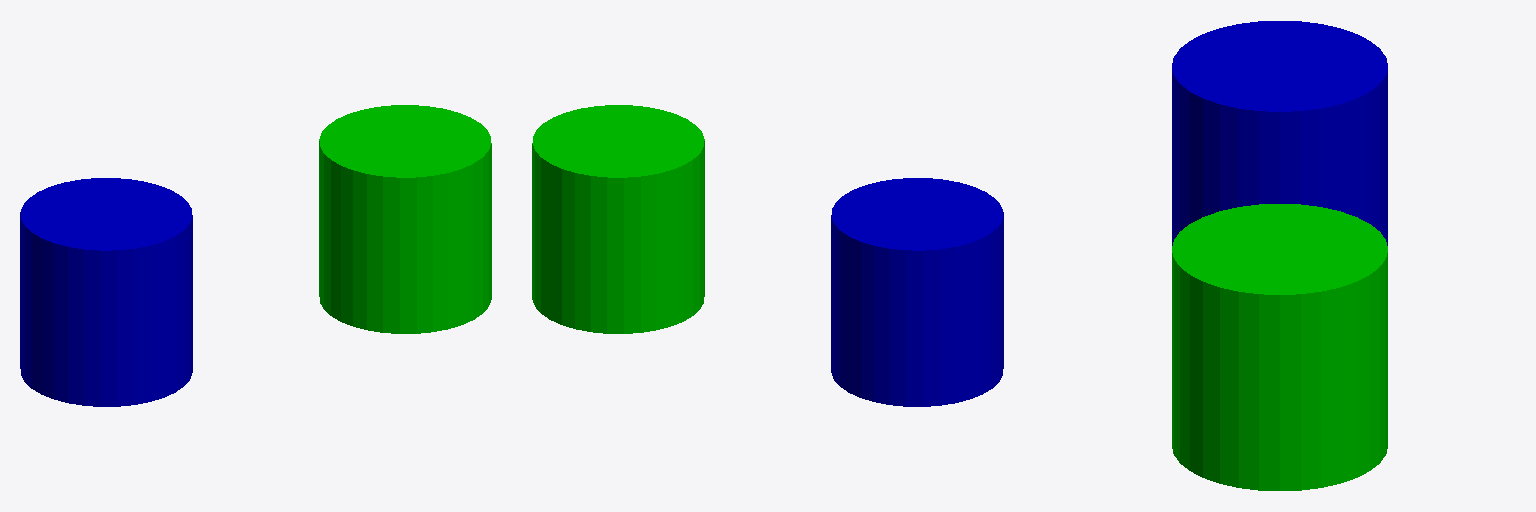
robot.urdf — A_vs_B:
<?xml version="1.0"?>
<robot name="A_vs_B">
  <material name="blue">
    <color rgba="0 0 0.8 .5"/>
  </material>
  <material name="green">
    <color rgba="0 0.8 0 .5"/>
  </material>
  <link name="A">
    <visual>
      <geometry>
        <cylinder radius=".5" length="1" />
      </geometry>
      <origin rpy="0.0 0 0" xyz="-1 0 0"/>
      <material name="blue"/>
    </visual>
  </link>
  <link name="B">
    <visual>
      <geometry>
        <cylinder radius=".5" length="1" />
      </geometry>
      <origin rpy="0 0 0" xyz="1 0 0"/>
      <material name="green"/>
    </visual>
  </link>
  <joint name="joint1" type="revolute">
    <axis xyz="0 0 1"/>
    <limit effort="1" lower="-1" upper="1" velocity="1"/>
    <origin rpy="0 0 0" xyz="0 0 0"/>
    <parent link="A"/>
    <child link="B"/>
  </joint>
</robot>

--- Facts derived from the render (not from the file) ---
3 views of the same robot in one strip: view 1: azimuth 30°, elevation 25°; view 2: azimuth 150°, elevation 25°; view 3: azimuth 270°, elevation 25° (orthographic).
Model A_vs_B with 2 links and 1 joints (1 revolute), rooted at A, posed all joints at 0.
Links seen in each view (by area): view 1: A, B; view 2: A, B; view 3: B, A.
Link boxes in pixels (x1,y1,x2,y2): A: [20, 178, 192, 406]; B: [319, 105, 491, 333]; A: [831, 178, 1003, 406]; B: [532, 105, 704, 333]; B: [1172, 204, 1387, 490]; A: [1172, 21, 1387, 245].
Bounding box of the posed robot: 3 × 1 × 1 m (x, y, z).
Geometry: primitives only (box / cylinder / sphere), no mesh files.